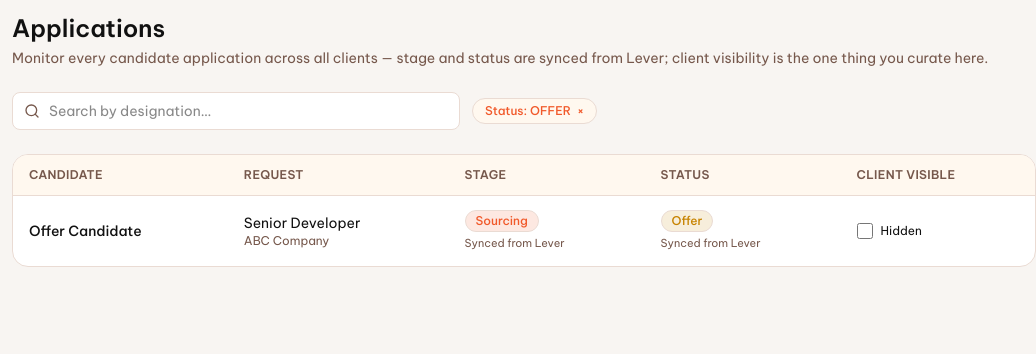
Scenario: ApplicationsView — status click-through filter › filters to the initial status and shows a clearable chip
Expected: the link "Offer Candidate" is shown, [29,222,142,240]
Expected: the text "Active Candidate" is not shown
Click the button "Status: OFFER ×" at (534, 111), box [472,98,597,124]
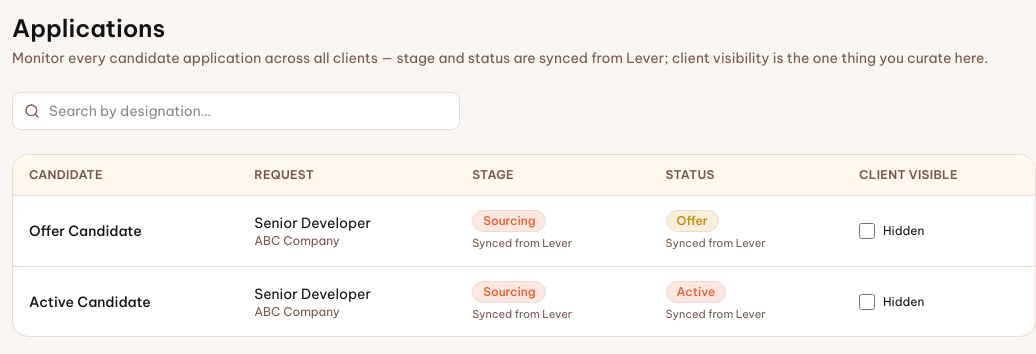
Now the link "Active Candidate" is shown, box [29,292,151,310]
